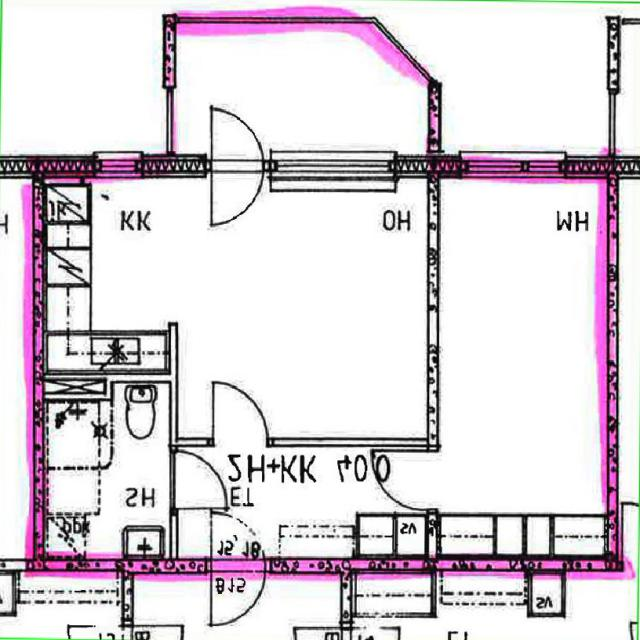door: (211, 100, 264, 178), (211, 156, 264, 233), (373, 451, 440, 509), (210, 558, 265, 628), (210, 501, 265, 571), (171, 451, 233, 507), (214, 382, 268, 446)
